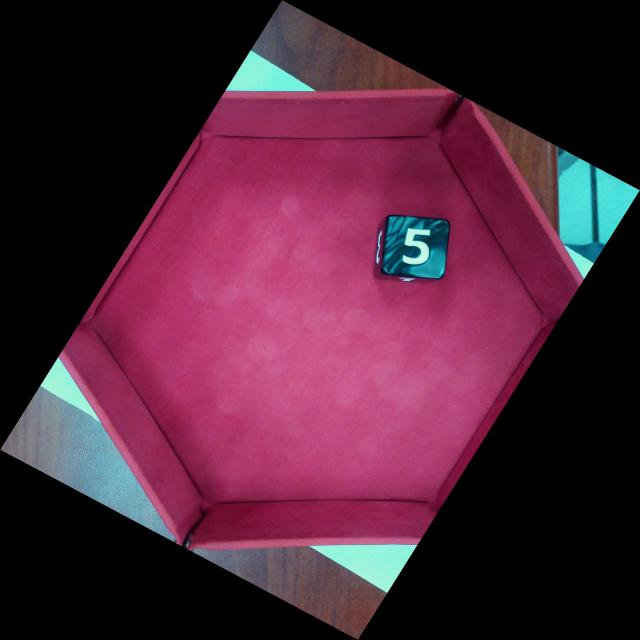dice: (382, 215, 449, 279)
